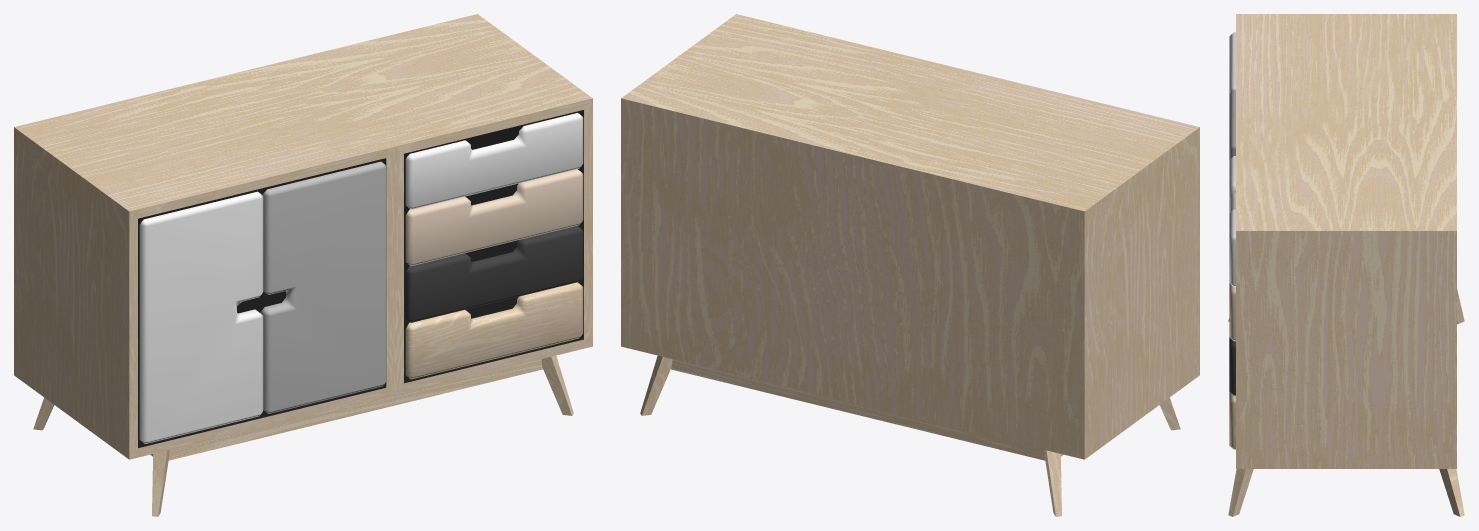
Rendered from dresser_023.fbx.
3 renders of one model, left to right at view 1: azimuth 30°, elevation 25°; view 2: azimuth 150°, elevation 25°; view 3: azimuth 270°, elevation 25°, orthographic. The views are drawn at different scales.
Parts seen in each view (by area): view 1: dresser_023; view 2: dresser_023; view 3: dresser_023.
Boxes of the visible parts, left/top/right/bottom form: dresser_023: left=14, top=14, right=592, bottom=516; dresser_023: left=621, top=14, right=1199, bottom=516; dresser_023: left=1228, top=14, right=1464, bottom=516.
Size of the model in its own units: 133 by 61.29 by 84.67.
